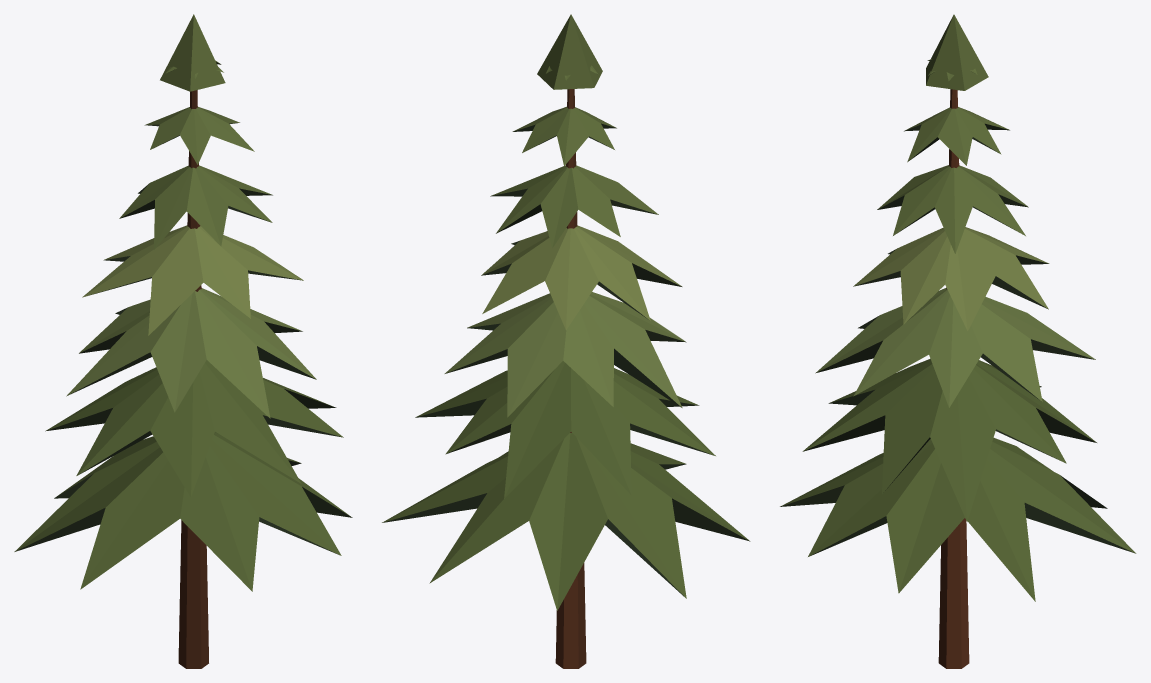
Rendered from mtn_pine_small.glb.
3 renders of one model, left to right at view 1: azimuth 30°, elevation 25°; view 2: azimuth 150°, elevation 25°; view 3: azimuth 270°, elevation 25°, orthographic.
Parts seen in each view (by area): view 1: mtn_pine_small; view 2: mtn_pine_small; view 3: mtn_pine_small.
Part boxes in pixels (<box>): mtn_pine_small: <box>14,14,352,668</box>; mtn_pine_small: <box>382,14,750,668</box>; mtn_pine_small: <box>780,14,1136,668</box>.
Bounding box in the file's own units: 3.45 × 7.2 × 3.59.
